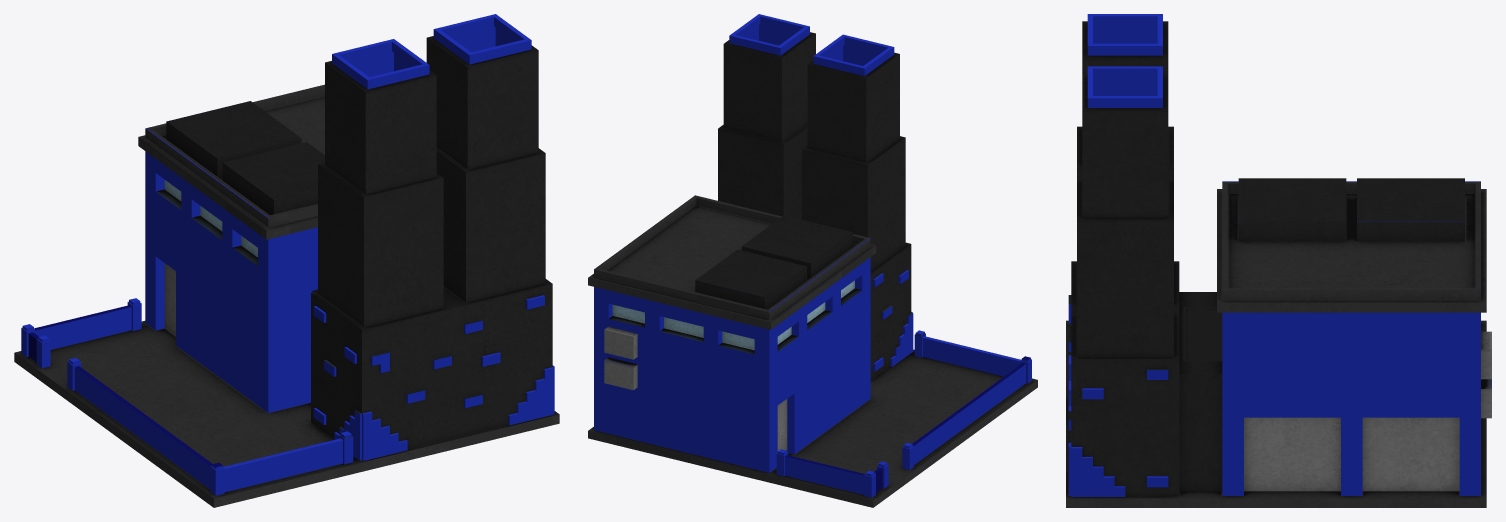
File: FabricaPlastico.fbx
3 renders of one model, left to right at view 1: azimuth 30°, elevation 25°; view 2: azimuth 150°, elevation 25°; view 3: azimuth 270°, elevation 25°, orthographic. The views are drawn at different scales.
Parts seen in each view (by area): view 1: VTP_Factory; view 2: VTP_Factory; view 3: VTP_Factory.
Part boxes in pixels (bbox=[...]): VTP_Factory: bbox=[14, 14, 559, 507]; VTP_Factory: bbox=[588, 14, 1037, 507]; VTP_Factory: bbox=[1066, 14, 1491, 507].
Size of the model in its own units: 7800 by 8200 by 7900.
Materials: 2 (1 with a texture image).
